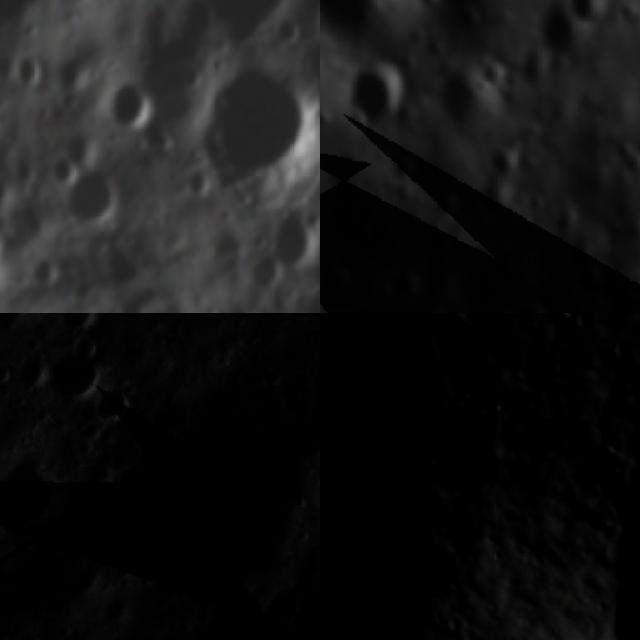crater: (116, 371, 320, 607), (203, 62, 312, 190), (0, 448, 82, 541), (342, 57, 413, 145), (185, 0, 297, 40), (38, 341, 108, 405), (257, 209, 320, 280), (533, 0, 590, 72), (433, 64, 490, 128), (68, 166, 124, 226), (320, 0, 403, 40), (107, 75, 150, 137), (89, 378, 138, 429), (18, 247, 63, 292), (562, 0, 621, 34), (484, 136, 524, 182), (391, 267, 435, 305), (10, 39, 42, 88), (572, 258, 612, 296), (607, 137, 640, 177), (51, 154, 87, 188), (605, 280, 640, 313), (429, 194, 465, 226), (387, 152, 420, 186), (53, 313, 105, 332), (506, 294, 557, 313), (296, 284, 320, 313), (351, 222, 376, 248), (524, 190, 548, 216), (0, 351, 14, 393), (555, 313, 586, 327), (516, 208, 534, 232), (0, 178, 8, 214)
